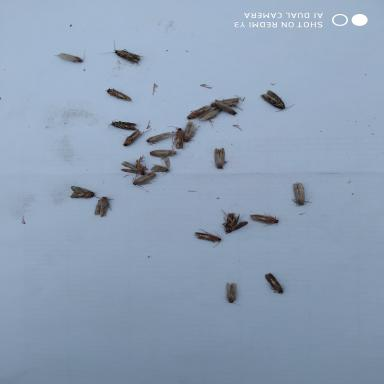pbw: (260, 89, 296, 113), (218, 209, 250, 235), (196, 106, 224, 130), (120, 154, 148, 178), (130, 171, 160, 193), (290, 182, 315, 208), (90, 196, 116, 220), (248, 212, 282, 230), (194, 229, 224, 249), (166, 125, 186, 155), (220, 281, 243, 307), (179, 120, 202, 144), (212, 98, 238, 118), (122, 128, 146, 148), (104, 88, 134, 104), (186, 104, 216, 120), (53, 49, 87, 63), (106, 118, 139, 132), (264, 273, 284, 295), (212, 146, 230, 170), (146, 131, 172, 147), (68, 186, 96, 200), (148, 148, 178, 159), (150, 164, 172, 178)
